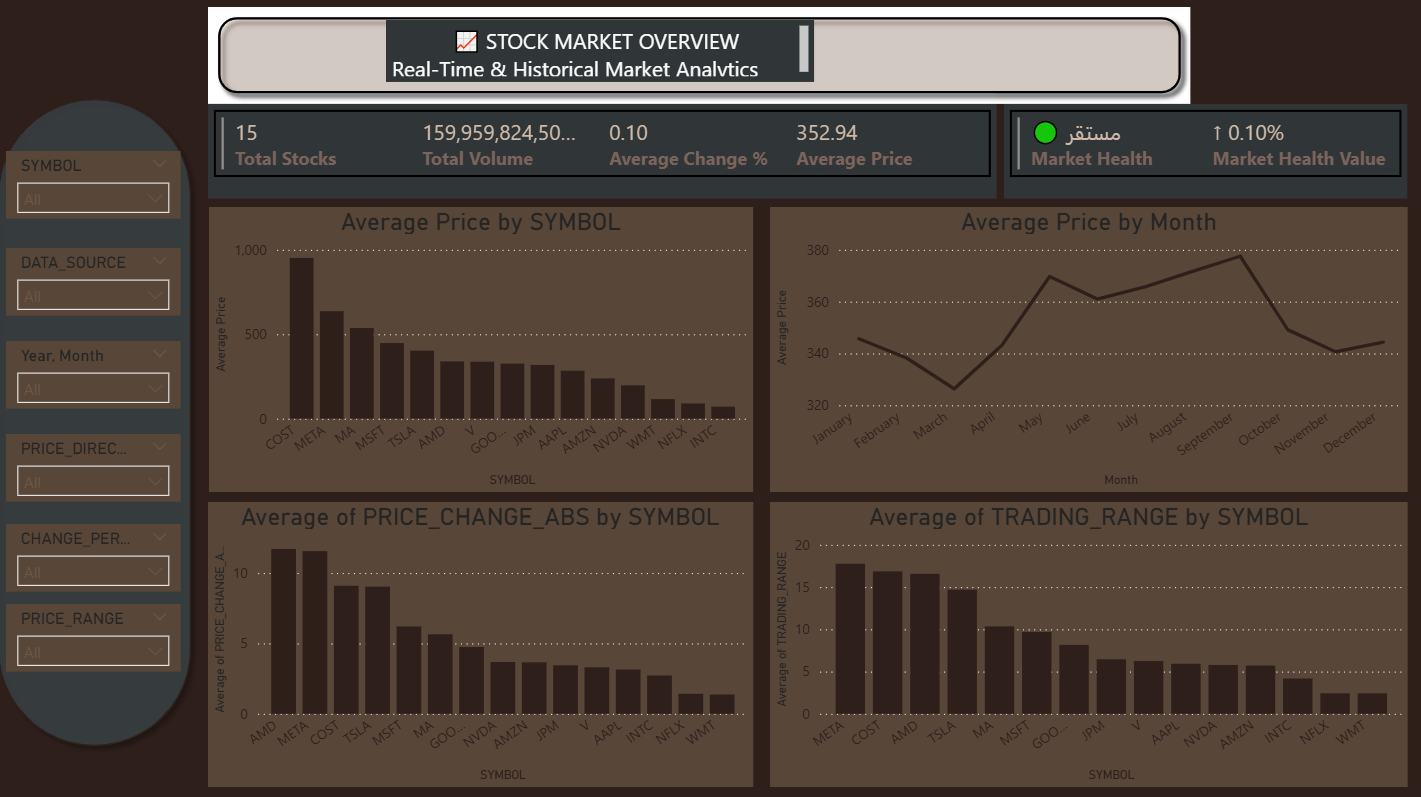

Layout of this report page (visuals, bound fields, positions):
{"tool":"powerbi","page":{"name":"📈 Market Overview","canvas":[1280,720],"ordinal":0},"visuals":[{"type":"shape","box":[195.5,13.6,872.5,85.6],"z":0},{"type":"textbox","box":[353.1,25.3,380.3,55.4],"z":1000},{"type":"multiRowCard","fields":{"Values":["FCT_STOCK_MARKET.Total Stocks","FCT_STOCK_MARKET.Total Volume","FCT_STOCK_MARKET.Average Change %","FCT_STOCK_MARKET.Average Price"]},"box":[195.3,99.4,700.4,84.3],"z":2000},{"type":"multiRowCard","fields":{"Values":["FCT_STOCK_MARKET.Market Health","FCT_STOCK_MARKET.Market Health Value"]},"box":[901.8,99.3,358.2,84.2],"z":3000},{"type":"clusteredColumnChart","fields":{"Category":["FCT_STOCK_MARKET.SYMBOL"],"Y":["FCT_STOCK_MARKET.Average Price"]},"box":[195.8,190.5,482.9,252.9],"z":4000},{"type":"lineChart","fields":{"Category":["FCT_STOCK_MARKET.EVENT_TIME.Variation.Date Hierarchy.Month"],"Y":["FCT_STOCK_MARKET.Average Price"]},"box":[694.1,190.8,566.3,253],"z":4001},{"type":"clusteredColumnChart","fields":{"Category":["FCT_STOCK_MARKET.SYMBOL"],"Y":["Avg(FCT_STOCK_MARKET.PRICE_CHANGE_ABS)"]},"box":[195.3,452.7,483.8,253],"z":4002},{"type":"clusteredColumnChart","fields":{"Category":["FCT_STOCK_MARKET.SYMBOL"],"Y":["Avg(FCT_STOCK_MARKET.TRADING_RANGE)"]},"box":[694.1,452.7,566.3,253],"z":4003},{"type":"shape","box":[0,86.1,189.1,592.1],"z":4004},{"type":"slicer","fields":{"Values":["FCT_STOCK_MARKET.SYMBOL"]},"box":[16,141.1,155.3,60.4],"z":4005},{"type":"slicer","fields":{"Values":["FCT_STOCK_MARKET.DATA_SOURCE"]},"box":[16,227.2,155.3,60.4],"z":4006},{"type":"slicer","fields":{"Values":["FCT_STOCK_MARKET.EVENT_TIME.Variation.Date Hierarchy.Year","FCT_STOCK_MARKET.EVENT_TIME.Variation.Date Hierarchy.Month"]},"box":[16,309.8,155.3,60.4],"z":4007},{"type":"slicer","fields":{"Values":["FCT_STOCK_MARKET.PRICE_DIRECTION"]},"box":[16,392.3,155.3,60.4],"z":4008},{"type":"slicer","fields":{"Values":["FCT_STOCK_MARKET.CHANGE_PERCENT"]},"box":[16,472.2,155.3,60.4],"z":4009},{"type":"slicer","fields":{"Values":["FCT_STOCK_MARKET.PRICE_RANGE"]},"box":[16,543.2,155.3,60.4],"z":4010}]}

Visuals, with their boxes in screenshot pixels (x1, y1, x2, y2), scaled from the page's 1280x720 canvas onto the 1421x797 screenshot:
shape: (x1=217, y1=15, x2=1186, y2=110)
textbox: (x1=392, y1=28, x2=814, y2=89)
multiRowCard - FCT_STOCK_MARKET.Total Stocks x FCT_STOCK_MARKET.Total Volume: (x1=217, y1=110, x2=994, y2=203)
multiRowCard - FCT_STOCK_MARKET.Market Health x FCT_STOCK_MARKET.Market Health Value: (x1=1001, y1=110, x2=1399, y2=203)
clusteredColumnChart - FCT_STOCK_MARKET.SYMBOL x FCT_STOCK_MARKET.Average Price: (x1=217, y1=211, x2=753, y2=491)
lineChart - FCT_STOCK_MARKET.EVENT_TIME.Variation.Date Hierarchy.Month x FCT_STOCK_MARKET.Average Price: (x1=771, y1=211, x2=1399, y2=491)
clusteredColumnChart - FCT_STOCK_MARKET.SYMBOL x Avg(FCT_STOCK_MARKET.PRICE_CHANGE_ABS): (x1=217, y1=501, x2=754, y2=781)
clusteredColumnChart - FCT_STOCK_MARKET.SYMBOL x Avg(FCT_STOCK_MARKET.TRADING_RANGE): (x1=771, y1=501, x2=1399, y2=781)
shape: (x1=0, y1=95, x2=210, y2=751)
slicer - FCT_STOCK_MARKET.SYMBOL: (x1=18, y1=156, x2=190, y2=223)
slicer - FCT_STOCK_MARKET.DATA_SOURCE: (x1=18, y1=251, x2=190, y2=318)
slicer - FCT_STOCK_MARKET.EVENT_TIME.Variation.Date Hierarchy.Year x FCT_STOCK_MARKET.EVENT_TIME.Variation.Date Hierarchy.Month: (x1=18, y1=343, x2=190, y2=410)
slicer - FCT_STOCK_MARKET.PRICE_DIRECTION: (x1=18, y1=434, x2=190, y2=501)
slicer - FCT_STOCK_MARKET.CHANGE_PERCENT: (x1=18, y1=523, x2=190, y2=590)
slicer - FCT_STOCK_MARKET.PRICE_RANGE: (x1=18, y1=601, x2=190, y2=668)
